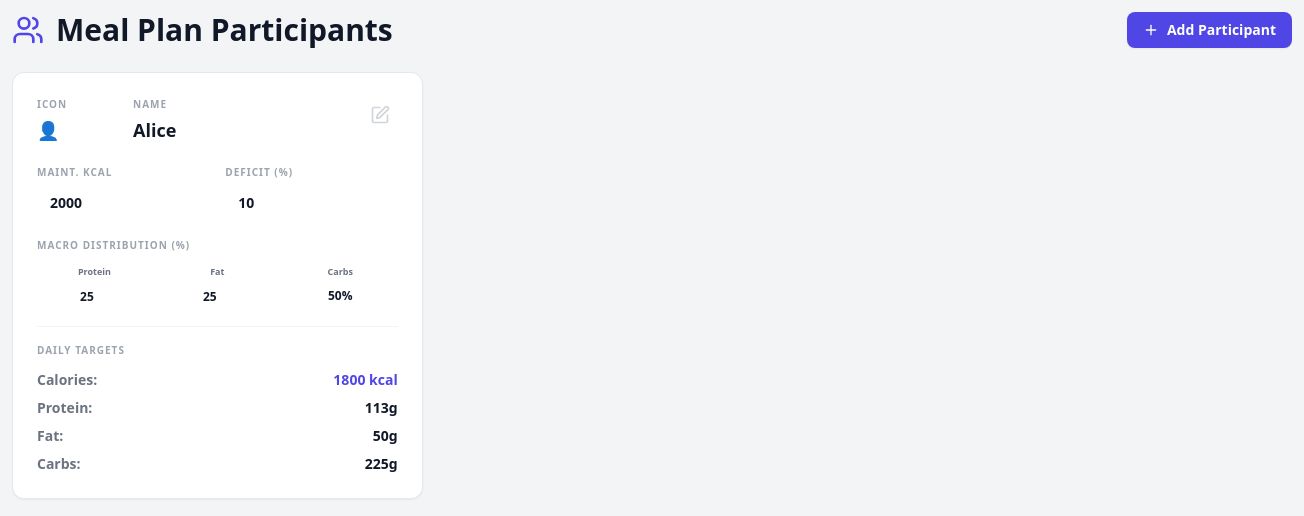
Test: Participants › clamps values on blur
Click the button titled "Edit Participant" at (380, 115), box [362,97,398,133]
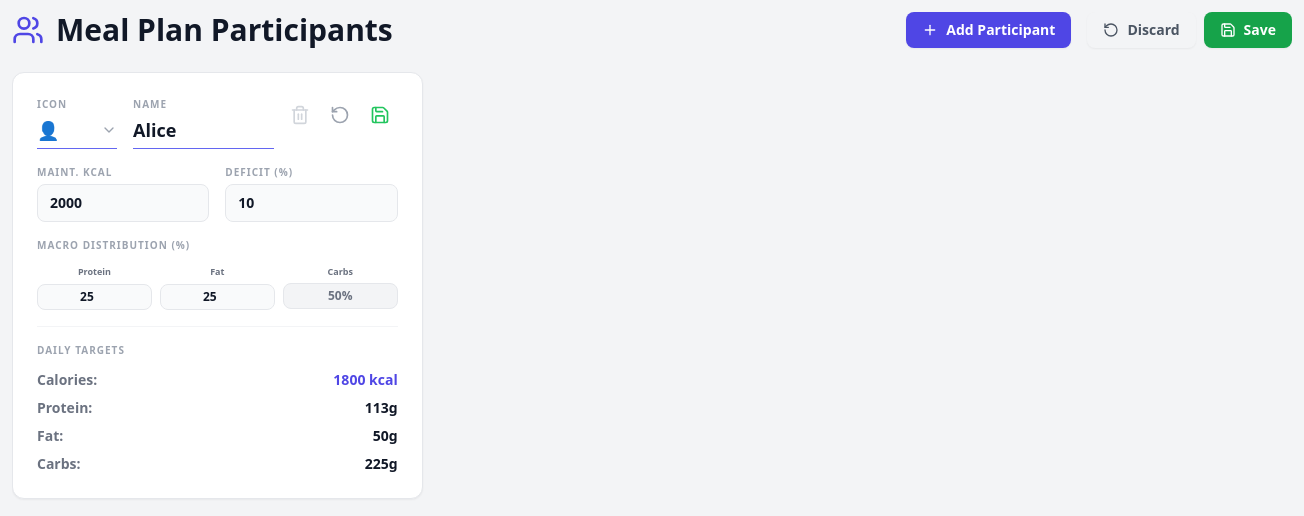
Replace the text in the number field named "Calorie deficit percentage" with "50" at (311, 203), box [225,184,398,222]
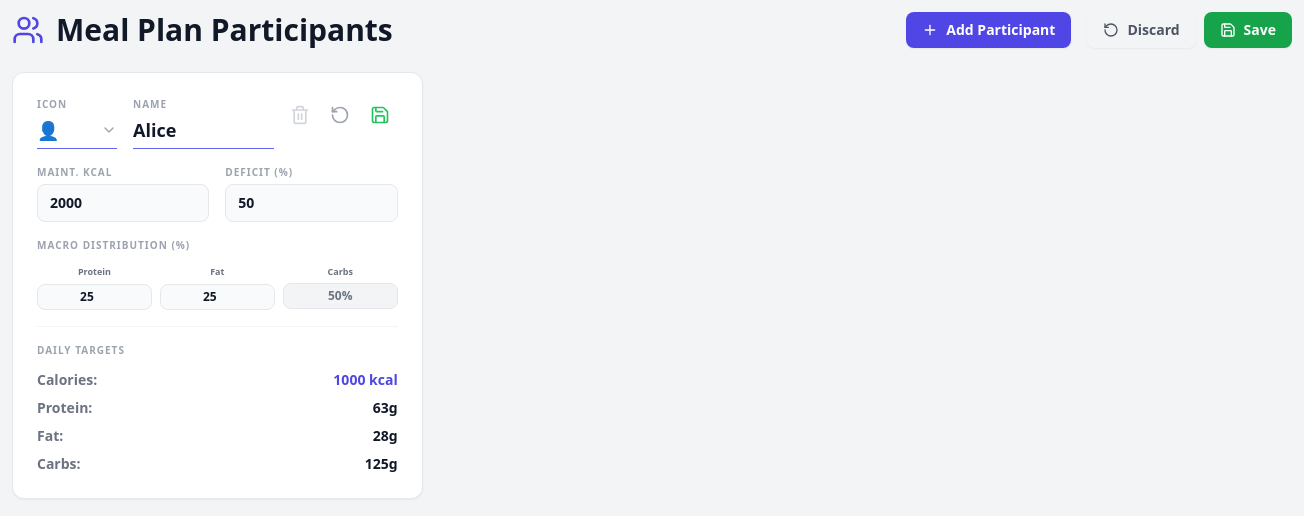
Leave the number field named "Calorie deficit percentage", box [225,184,398,222]
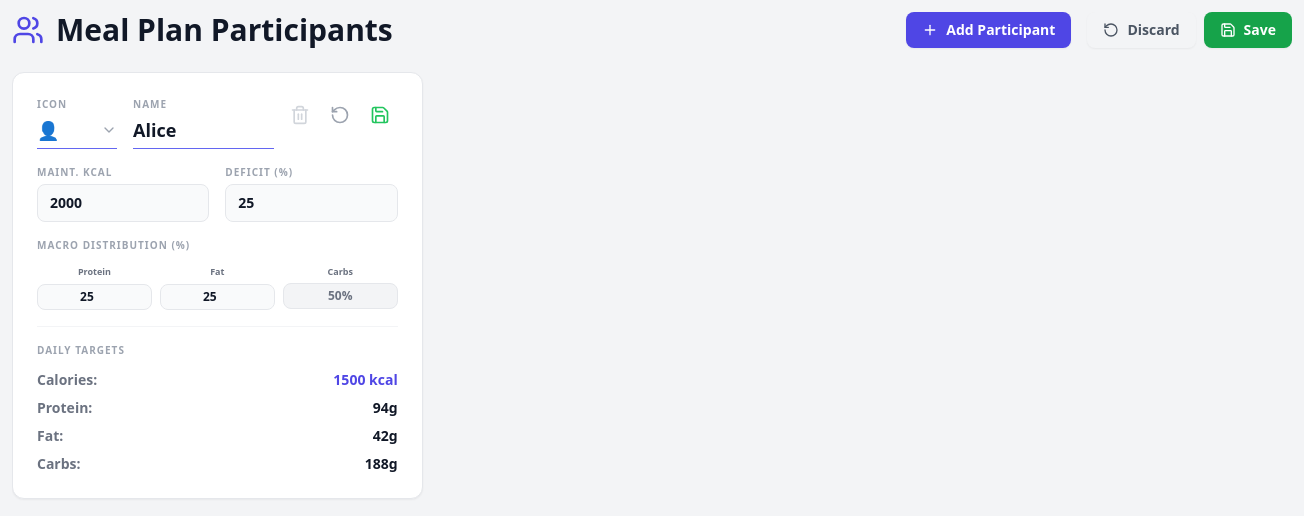
Expected: the number field named "Calorie deficit percentage" holds "25", [225,184,398,222]
